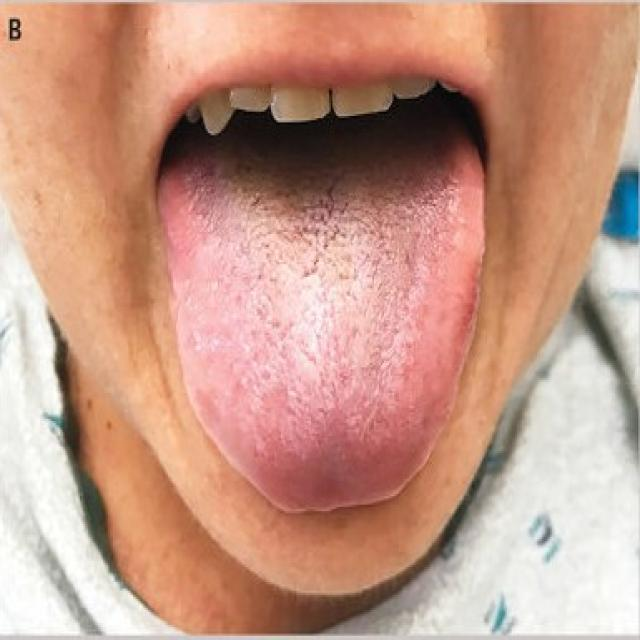No Cancer: (185, 106, 465, 330)
